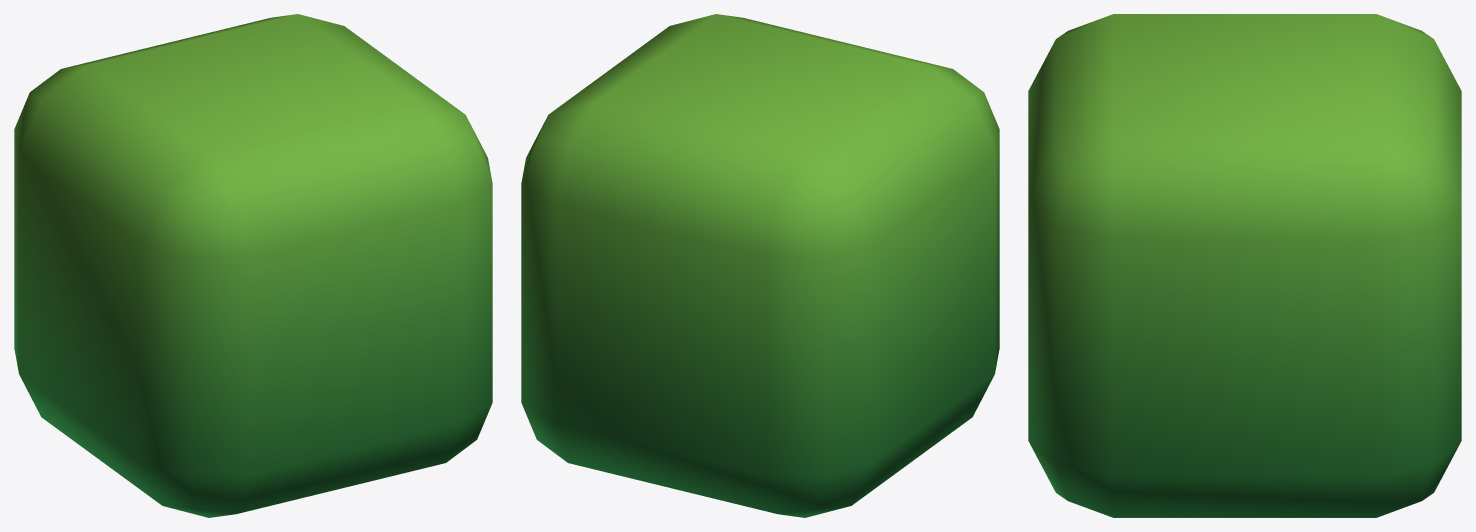
The model's file is Bush_2_B_Color1.glb.
3 views of the same model, side by side, from view 1: azimuth 30°, elevation 25°; view 2: azimuth 150°, elevation 25°; view 3: azimuth 270°, elevation 25° (orthographic). The views are drawn at different scales.
Visible parts, largest first — view 1: Bush_2_B_Color1; view 2: Bush_2_B_Color1; view 3: Bush_2_B_Color1.
Part boxes in pixels (left/top/right/bottom): Bush_2_B_Color1: left=14, top=14, right=492, bottom=517; Bush_2_B_Color1: left=521, top=14, right=999, bottom=517; Bush_2_B_Color1: left=1028, top=14, right=1461, bottom=517.
Size of the model in its own units: 0.858 by 0.858 by 0.858.
Materials: 1 (1 with a texture image).
